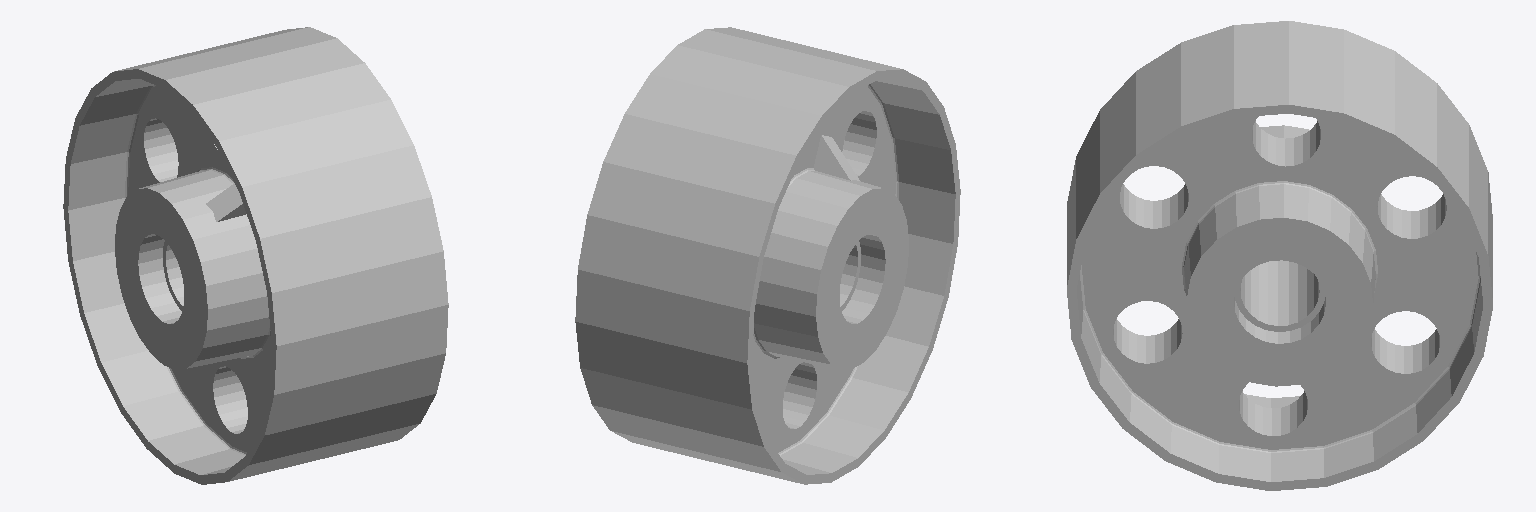
Rendered from original-63.obj.
3 renders of one model, left to right at view 1: azimuth 30°, elevation 25°; view 2: azimuth 150°, elevation 25°; view 3: azimuth 270°, elevation 25°, orthographic.
Visible parts, largest first — view 1: W-POR-1650-1_1_4_5/mesh65/mesh65-geometry#mesh65-geometry; view 2: W-POR-1650-1_1_4_5/mesh65/mesh65-geometry#mesh65-geometry; view 3: W-POR-1650-1_1_4_5/mesh65/mesh65-geometry#mesh65-geometry.
Boxes of the visible parts, box(x1,y1,x2,y2) form: W-POR-1650-1_1_4_5/mesh65/mesh65-geometry#mesh65-geometry: box(63, 27, 448, 484); W-POR-1650-1_1_4_5/mesh65/mesh65-geometry#mesh65-geometry: box(575, 27, 960, 484); W-POR-1650-1_1_4_5/mesh65/mesh65-geometry#mesh65-geometry: box(1067, 21, 1492, 490).
Bounding box in the file's own units: 0.0513 × 0.1001 × 0.1001.